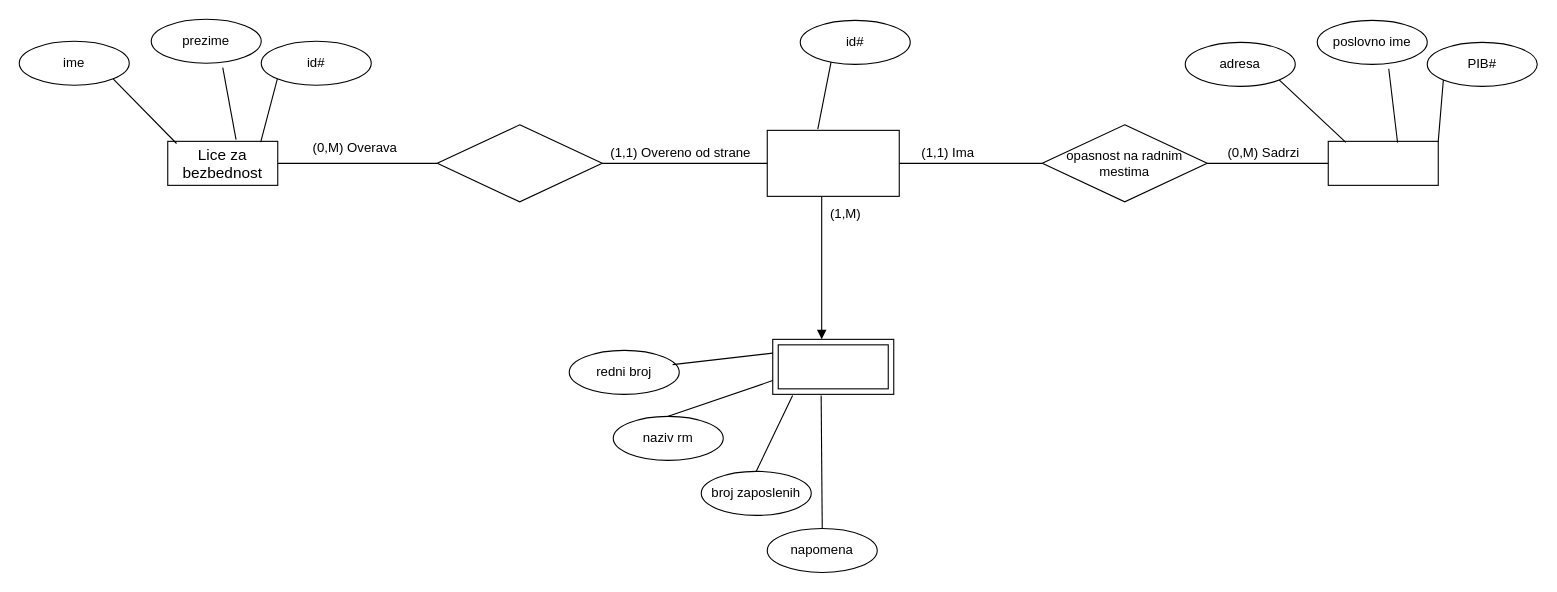
The diagram is 1557 pixels wide and 592 high, and some of its shapes have lost their labels. The shapes that lost their labels are listed below. From the top down, each one's centre as x and y in pixels, then its label:
(519,163): Vodjenje evidencije
(832,162): Evidencija o radnim mestima
(1382,162): Poslodavac
(833,366): Stavka evidencije
